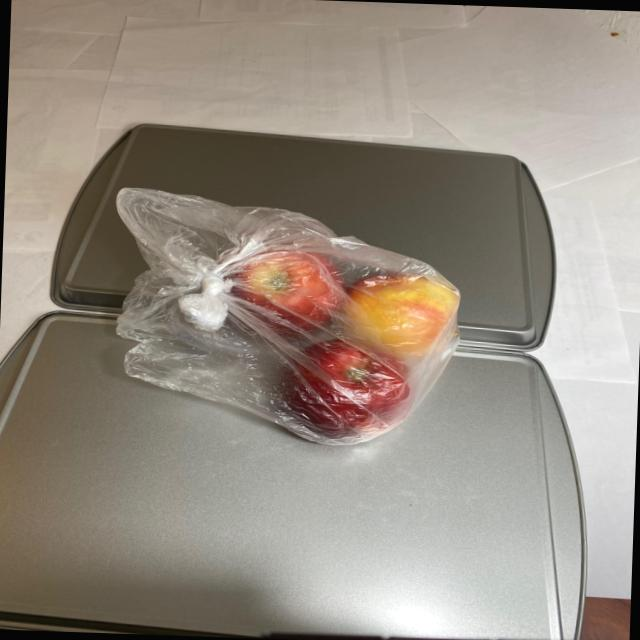apple: (219, 236, 464, 454)
